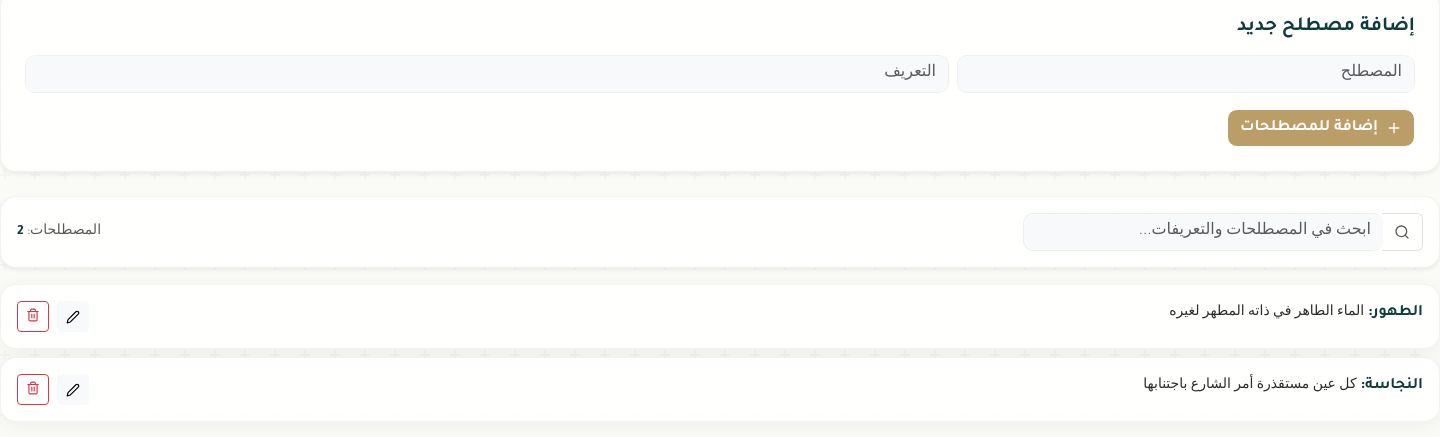
Test case: AdminGlossaryTab Component › البحث يقوم بتصفية المصطلحات فورياً
Type "نجاسة" into the field with placeholder "ابحث في المصطلحات والتعريفات...".
click(1203, 232); type("نجاسة")  # box [1023,213,1383,251]
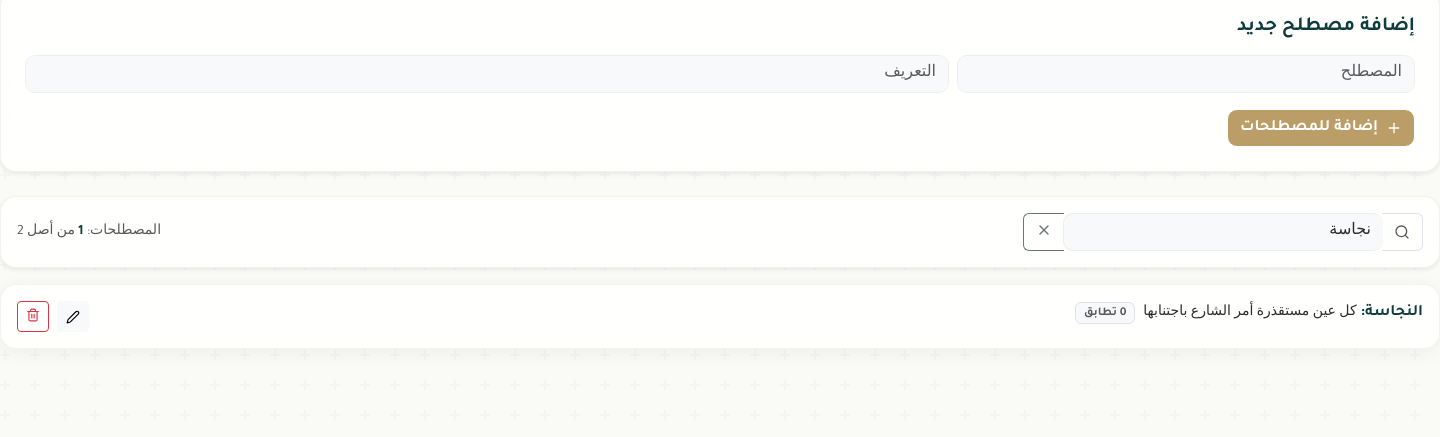
Check: the text "النجاسة:" is shown, box [1357,305,1423,321]
Check: the text "الطهور:" is gone
